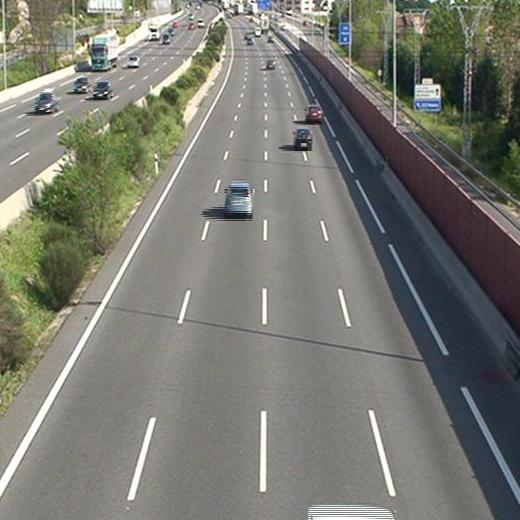car: (224, 184, 253, 213), (294, 129, 312, 149), (306, 106, 323, 122), (266, 60, 276, 70)
